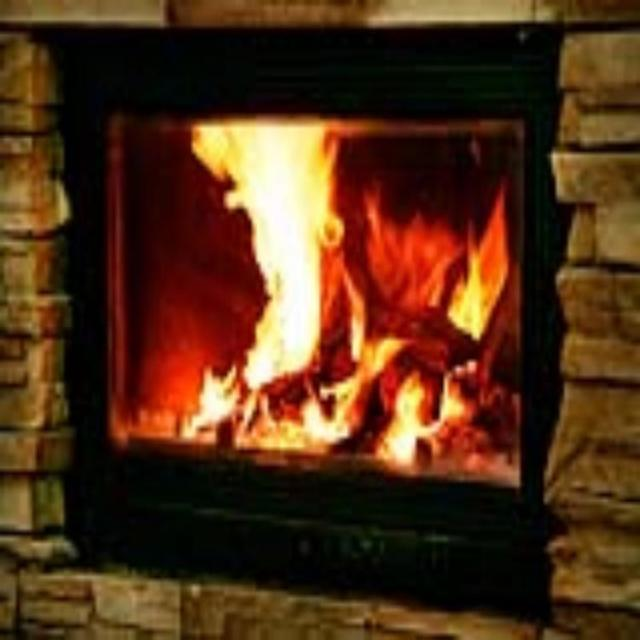fire: (169, 113, 512, 467)
